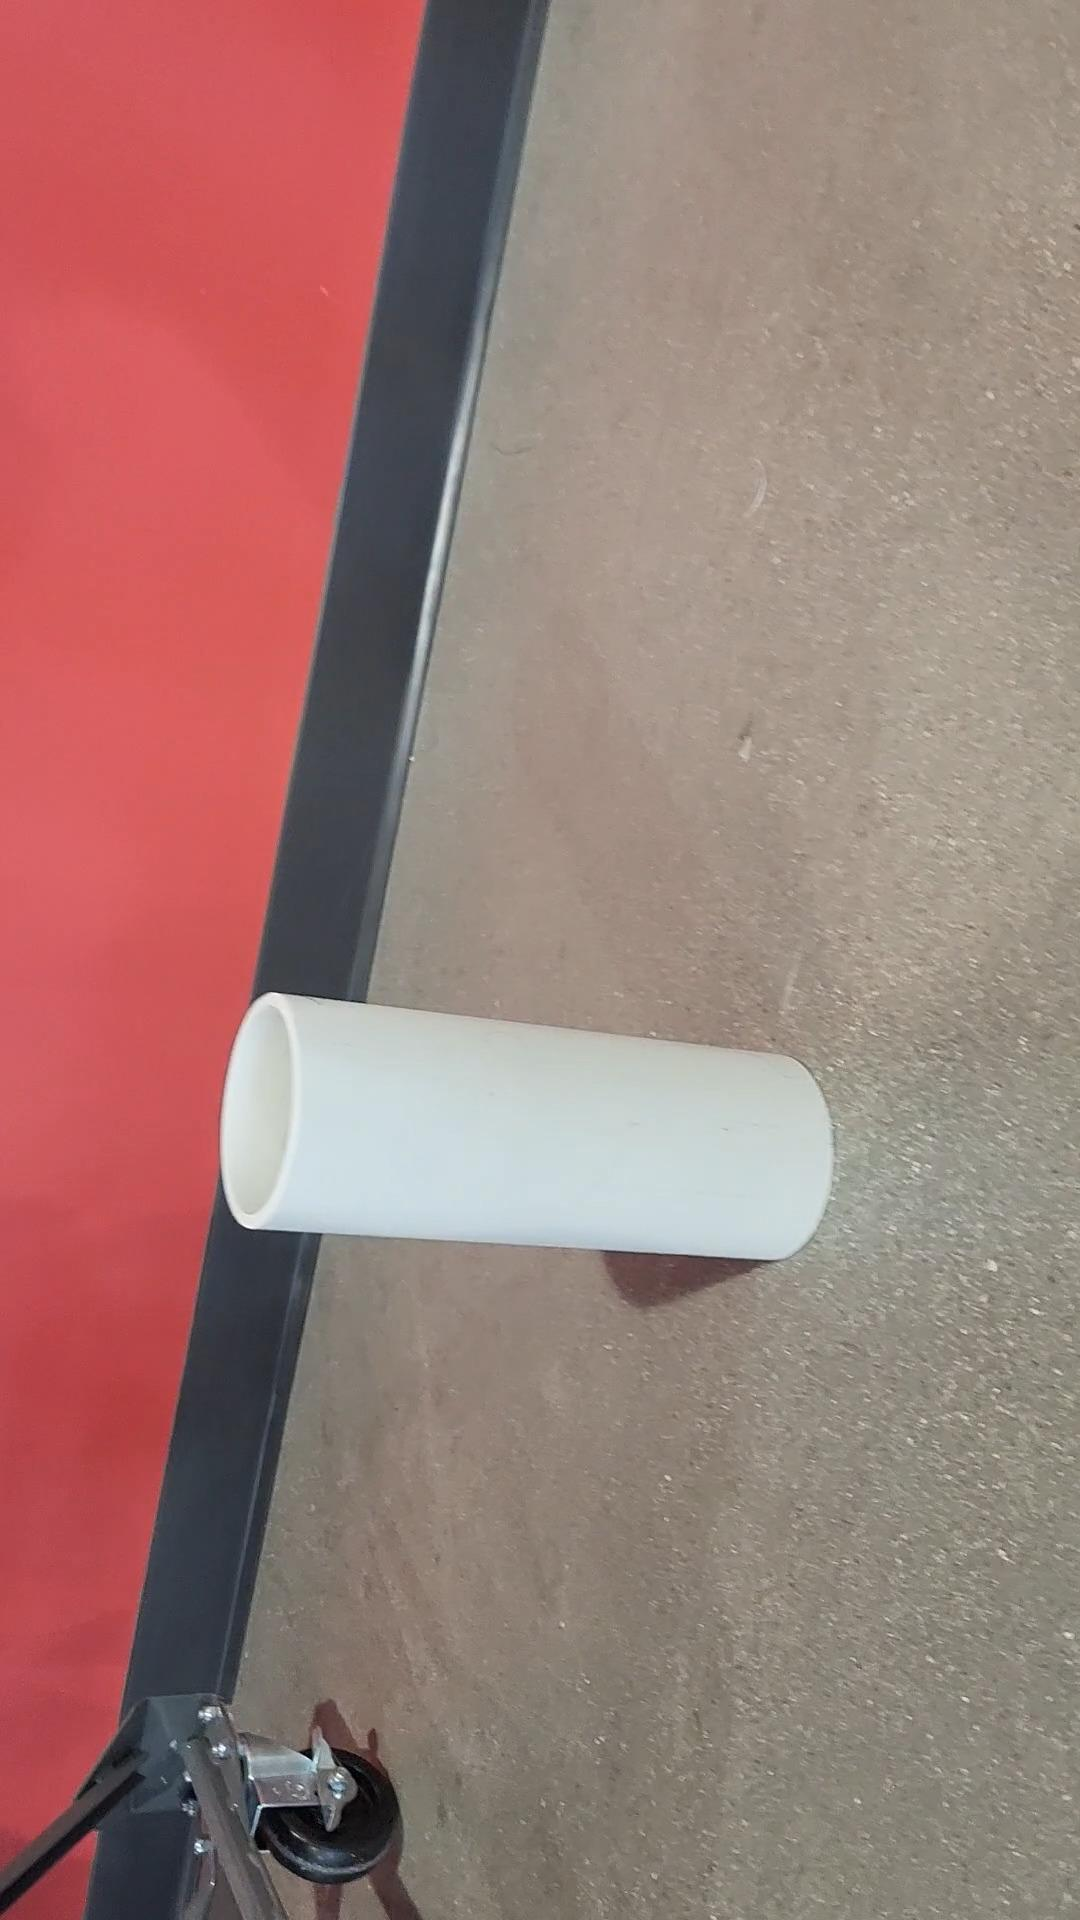coral: (220, 984, 847, 1270)
